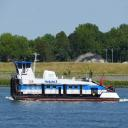tugboat: (11, 53, 121, 104)
